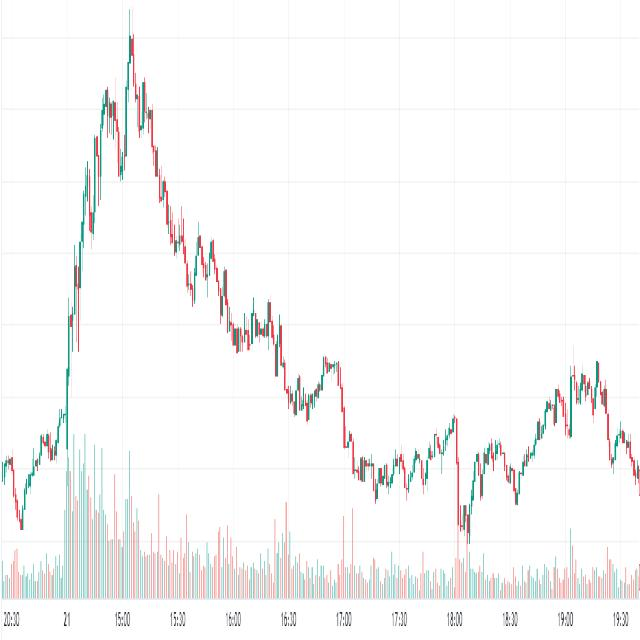Triangle: (453, 381, 542, 567), (121, 2, 163, 190)
